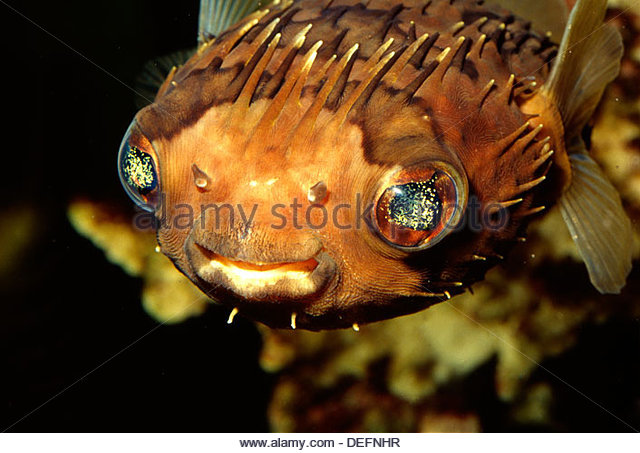Diodon_holocanthus: (62, 1, 637, 358)
